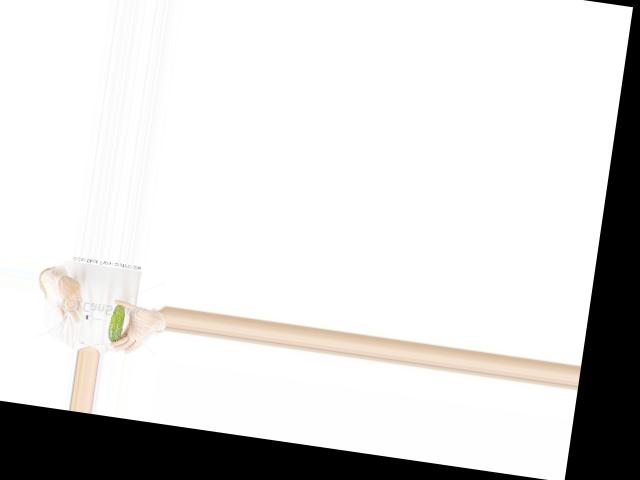cucumber: (108, 303, 127, 344)
